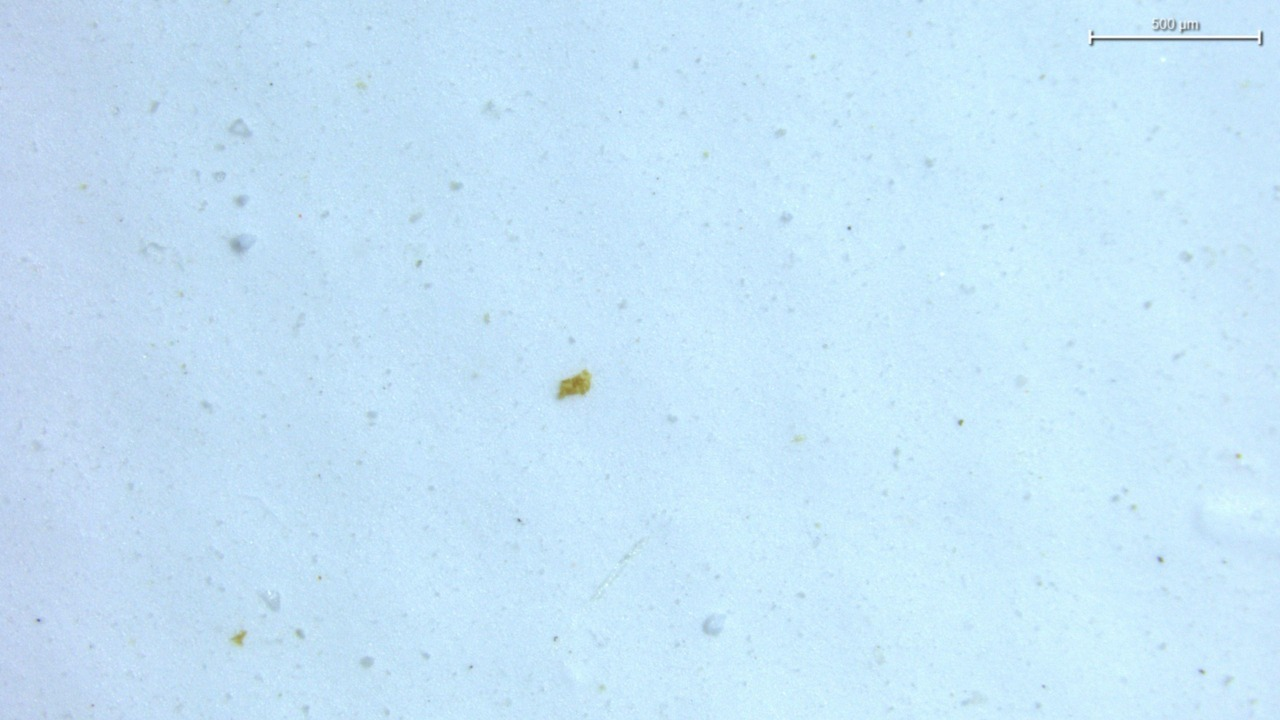microplastic_fragment: (228, 234, 257, 255), (701, 613, 726, 636)
